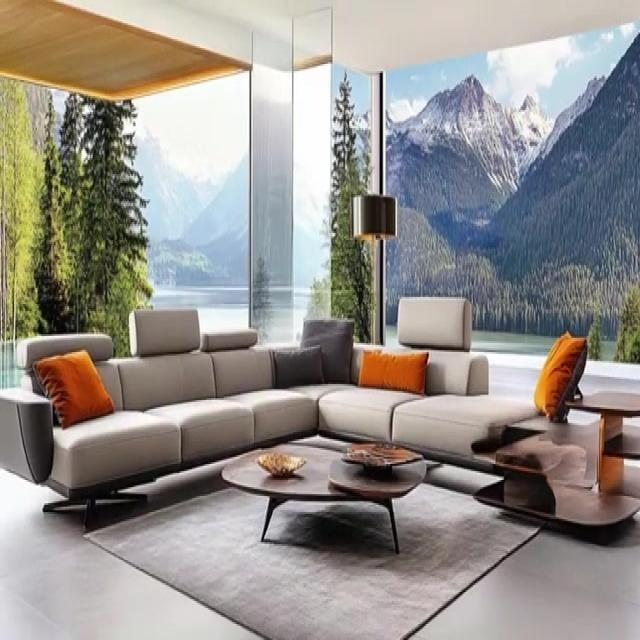obstacle: (0, 300, 550, 504), (220, 437, 427, 553)
